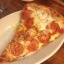pizza: (1, 4, 61, 60)
